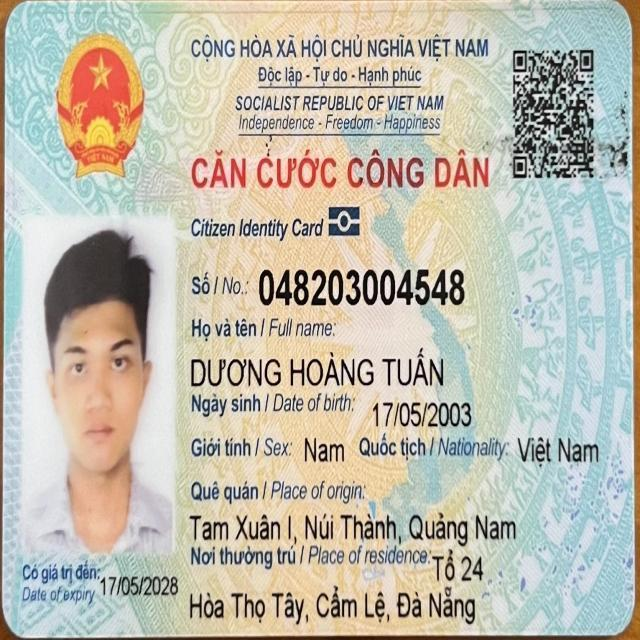current_place: (186, 586, 479, 628), (433, 545, 487, 584)
dob: (370, 396, 474, 433)
expire_date: (99, 571, 183, 604)
gender: (299, 431, 347, 468)
id: (255, 258, 468, 314)
name: (186, 350, 447, 390)
nationality: (513, 428, 599, 470)
origin_place: (188, 507, 516, 547)
